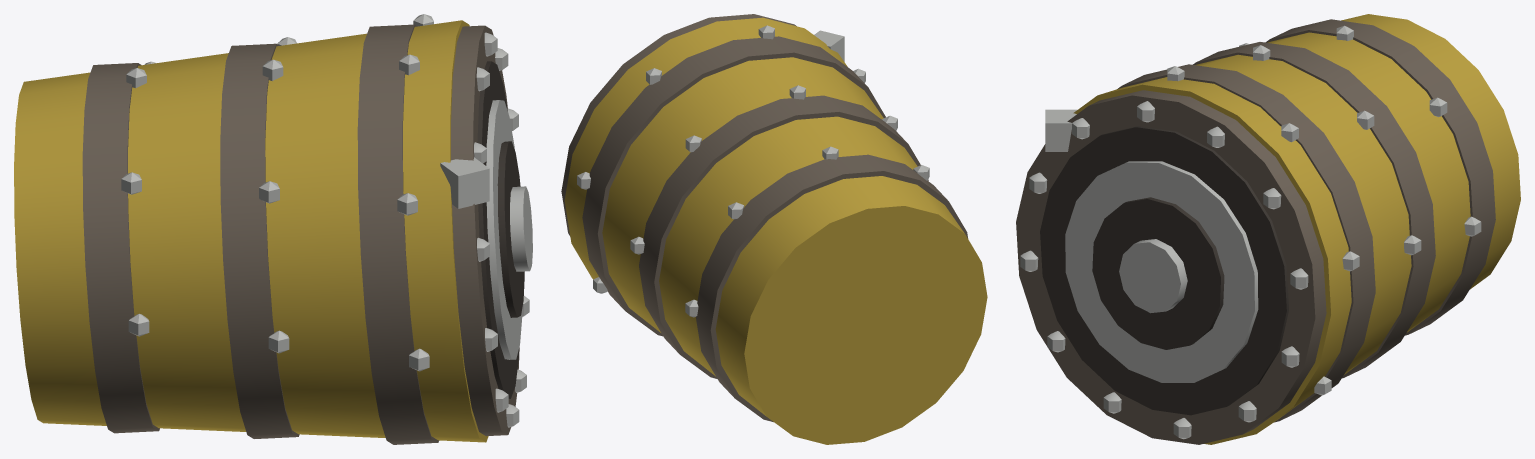
File: crash-site-chest-2.glb
3 renders of one model, left to right at view 1: azimuth 30°, elevation 25°; view 2: azimuth 150°, elevation 25°; view 3: azimuth 270°, elevation 25°, orthographic. The views are drawn at different scales.
Parts seen in each view (by area): view 1: body; view 2: body; view 3: body.
Part boxes in pixels (<box>): body: <box>14,14,532,444</box>; body: <box>561,14,987,444</box>; body: <box>1016,14,1520,444</box>.
Size of the model in its own units: 1.32 by 0.9546 by 1.27.
